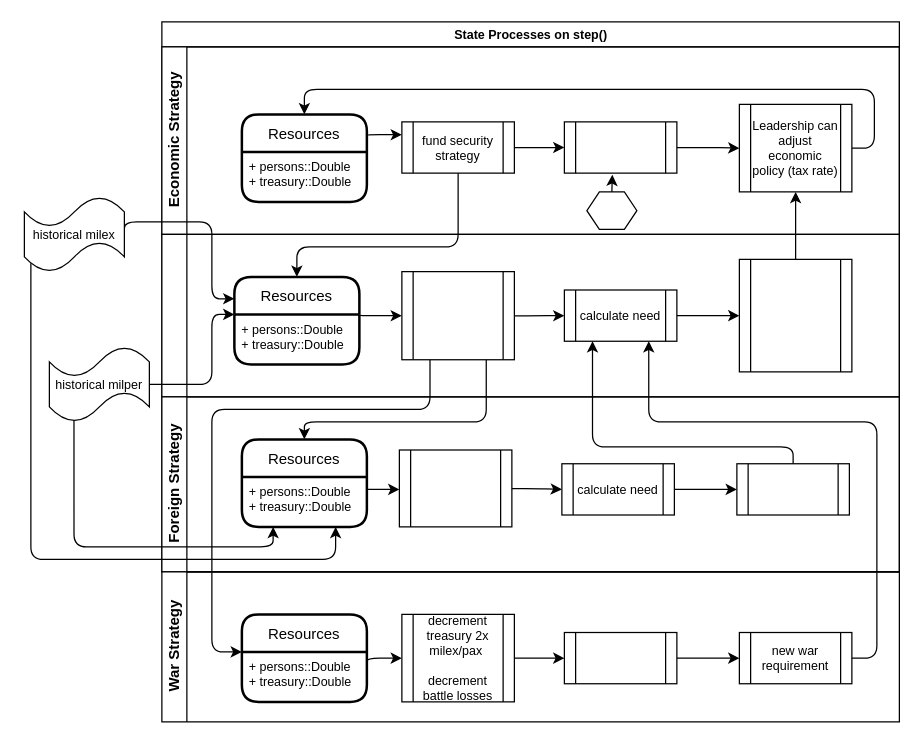
Image size: 921x744. Some labels were removed from this diagram. Each missing label, with the box of its shape:
calculate gap: (563, 631, 677, 684)
collect tax: (563, 121, 677, 173)
decrement treasury by sum of weekly institution costs: (398, 449, 512, 527)
decrement treasury; fund subordinate strategies: (401, 270, 514, 360)
Leadership can change priorities for all Processes and Institutions: (738, 258, 852, 372)
Security Strategy: (161, 233, 899, 397)
submit requirement: (736, 462, 849, 515)
Tile: (586, 191, 637, 229)
